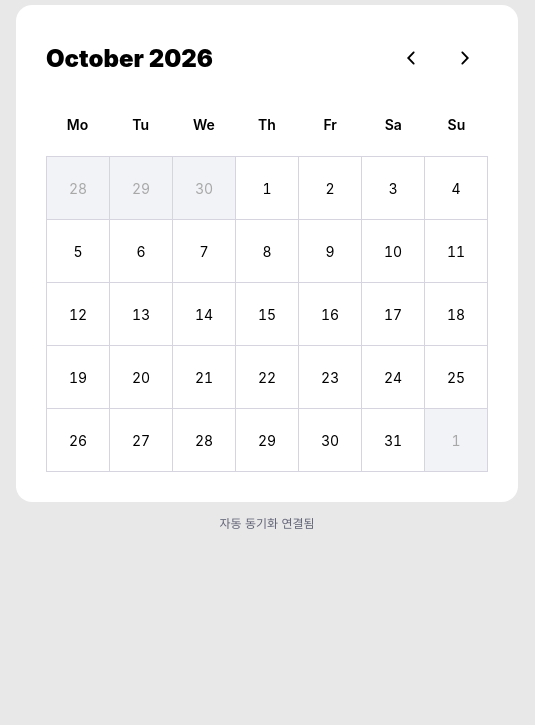
Test: 동일 제목은 독립적으로 저장·삭제되고 HTML 형태의 제목은 텍스트로 렌더링된다
Click the button named "2026년 10월 7일 수요일" at (204, 251), box [173,220,235,282]
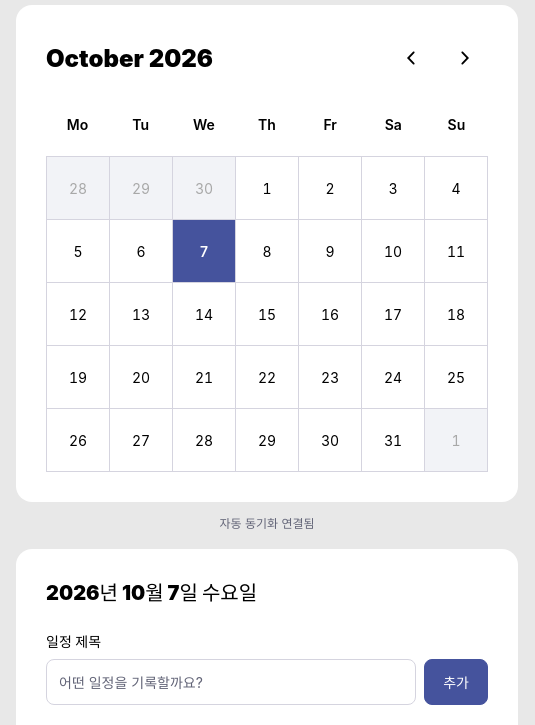
Check: the field is enabled
Type "<img src=x onerror=alert(1)>" into the field at (231, 682), box [46,659,416,705]
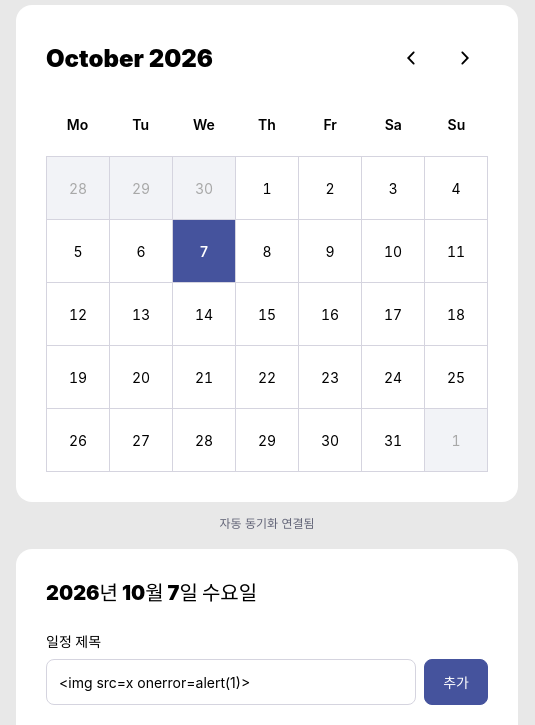
Submit the form, box [46,631,488,705]
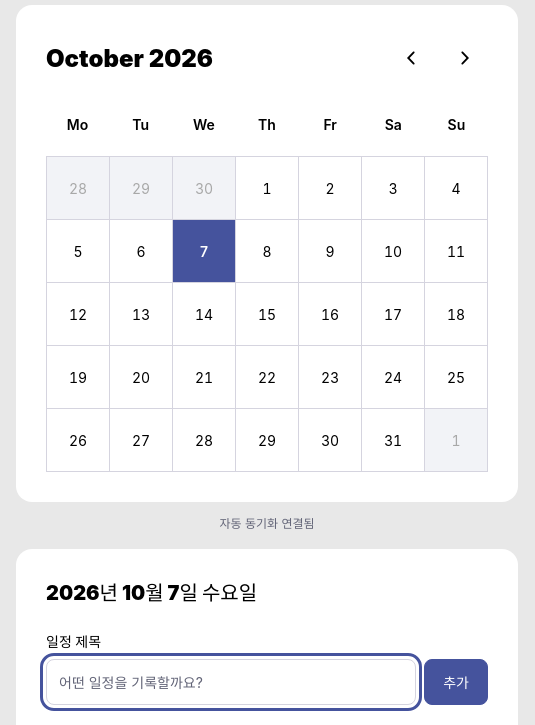
Check: the field is enabled
Type "<img src=x onerror=alert(1)>" into the field at (231, 682), box [46,659,416,705]
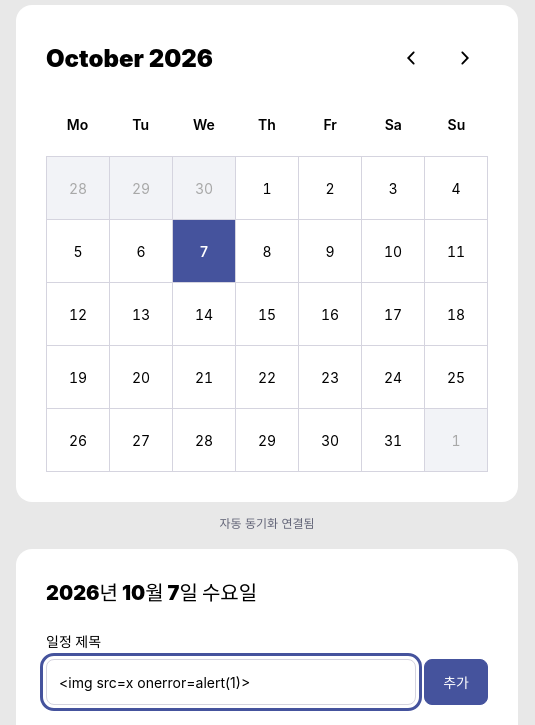
Submit the form, box [46,631,488,705]
(page scrolled)
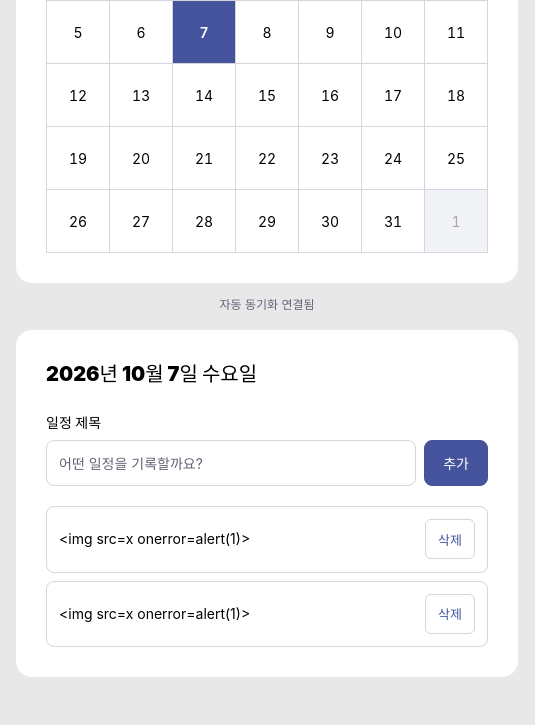
Check: the field is enabled, box [46,440,416,486]
Click the button with aria-label "<img src=x onerror=alert(1)> 삭제" at (450, 539), box [425,519,475,559]
(page scrolled)
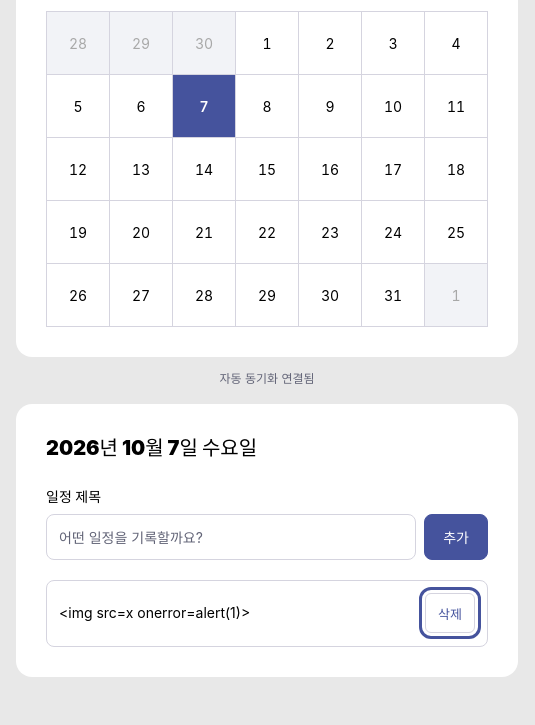
Check: the number of buttons named "<img src=x onerror=alert(1)> 삭제" is 1, box [425,593,475,633]
